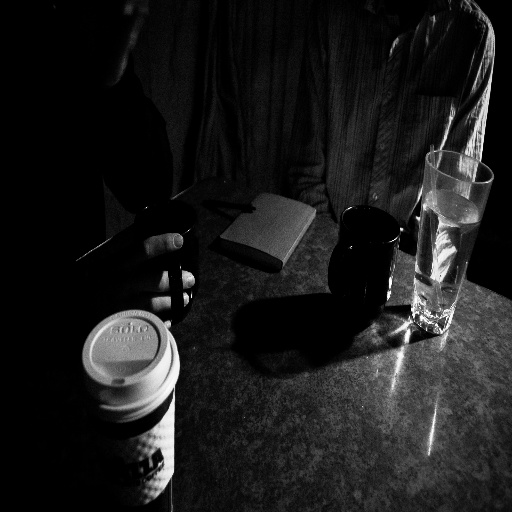hand: (91, 207, 204, 315)
